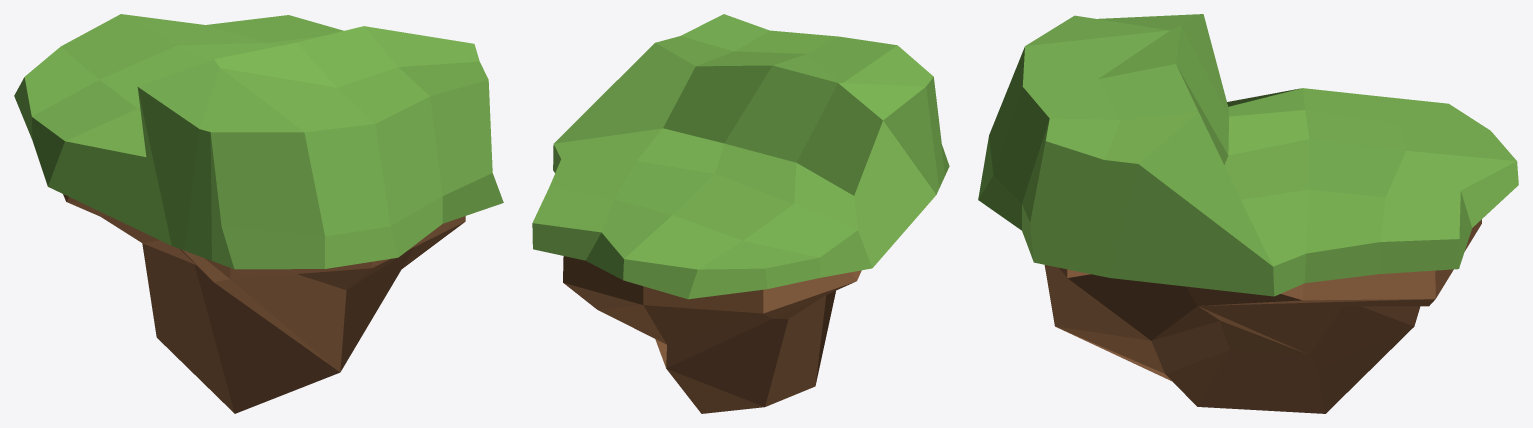
File: plataforma 003 - 2 niveis.fbx
The picture shows the model from 3 angles, left to right: view 1: azimuth 30°, elevation 25°; view 2: azimuth 150°, elevation 25°; view 3: azimuth 270°, elevation 25°; orthographic projection. The views are drawn at different scales.
Visible parts, largest first — view 1: topo.002, base.002; view 2: topo.002, base.002; view 3: topo.002, base.002.
Part boxes in pixels (box(x1,y1,x2,y2)): topo.002: box(14, 14, 503, 269); base.002: box(63, 194, 465, 413); topo.002: box(532, 14, 949, 299); base.002: box(563, 256, 861, 413); topo.002: box(978, 14, 1518, 296); base.002: box(1044, 219, 1481, 413).
Bounding box in the file's own units: 333 × 294 × 410.
